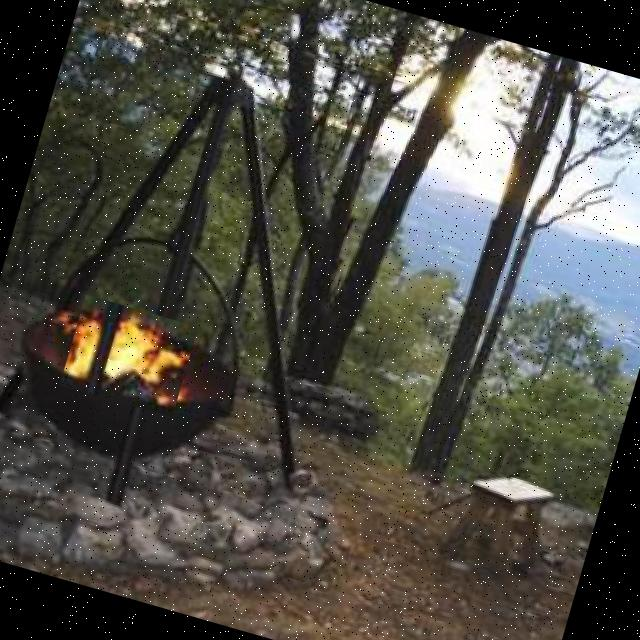fire: (59, 294, 198, 417)
